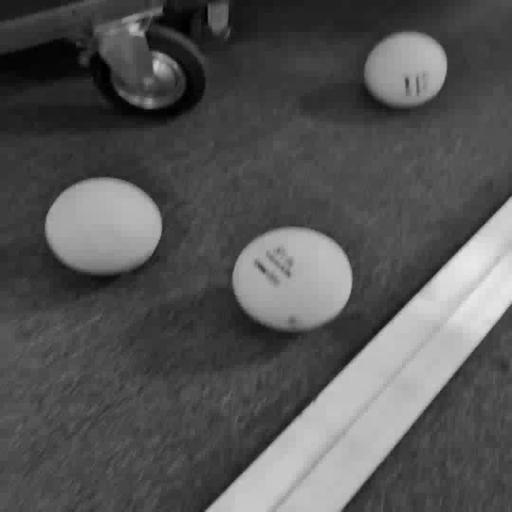fuel: (232, 228, 353, 332), (45, 178, 162, 276), (364, 32, 447, 108)
